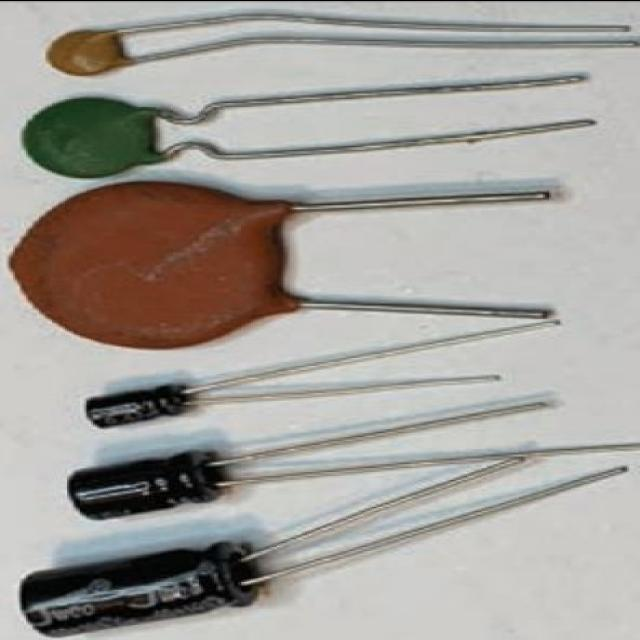Capacitor: (20, 465, 628, 634), (10, 179, 560, 349), (22, 71, 588, 178), (85, 320, 558, 428), (46, 11, 640, 75), (69, 438, 359, 518)
